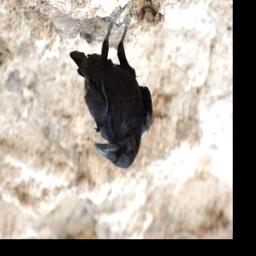Crow: (69, 8, 152, 170)
